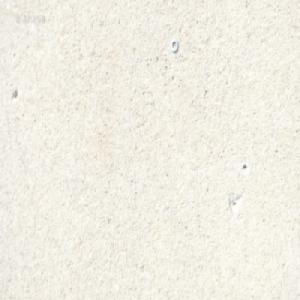Washer: (170, 38, 178, 52)
